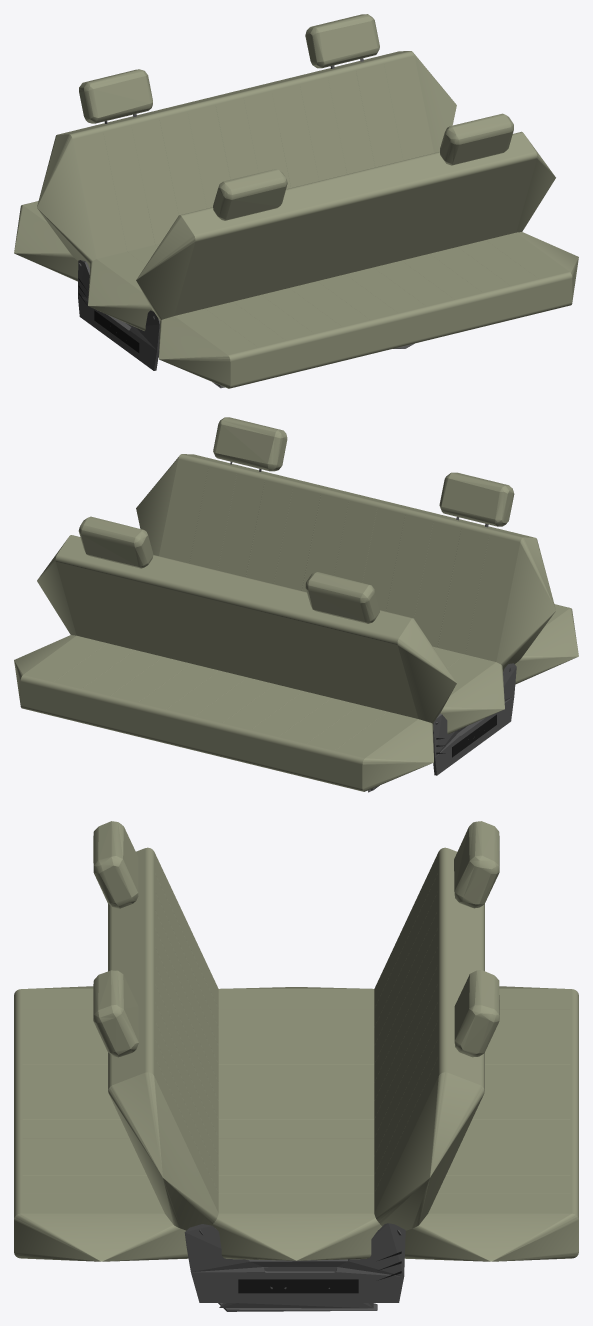
The model's file is i-seat-birch.glb.
The picture shows the model from 3 angles, top to bottom: view 1: azimuth 30°, elevation 25°; view 2: azimuth 150°, elevation 25°; view 3: azimuth 270°, elevation 25°; orthographic projection. The views are drawn at different scales.
Visible parts, largest first — view 1: Furniture AO atlas; view 2: Furniture AO atlas; view 3: Furniture AO atlas.
Part boxes in pixels (left/top/right/bottom): Furniture AO atlas: left=14, top=14, right=578, bottom=388; Furniture AO atlas: left=14, top=417, right=578, bottom=792; Furniture AO atlas: left=14, top=821, right=578, bottom=1311.
Bounding box in the file's own units: 1.65 × 0.9142 × 1.42.
